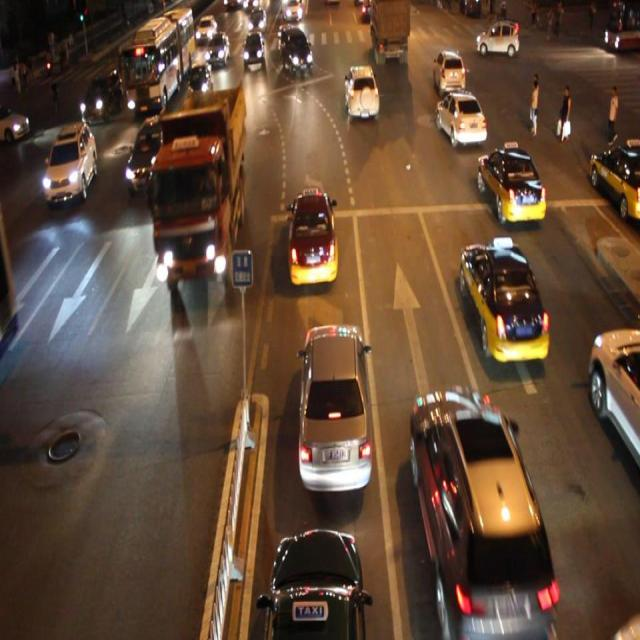bus: (151, 89, 244, 283), (372, 1, 409, 64)
car: (409, 385, 556, 640), (297, 319, 373, 495), (260, 526, 367, 640), (459, 237, 547, 359), (587, 328, 640, 471), (475, 143, 545, 225), (287, 188, 339, 284), (42, 122, 98, 204), (124, 114, 177, 195), (434, 88, 486, 145), (80, 70, 123, 124), (344, 65, 379, 120), (280, 28, 314, 75), (434, 48, 465, 98), (187, 63, 213, 102), (206, 33, 229, 67), (242, 33, 264, 68)
van: (123, 10, 193, 110)
